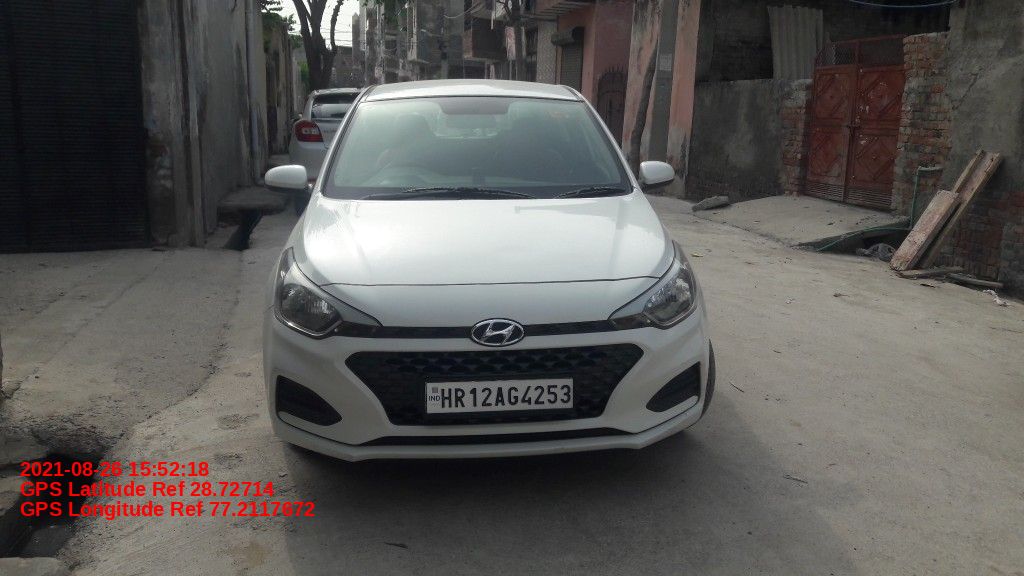Scratched: (681, 407, 693, 419)
